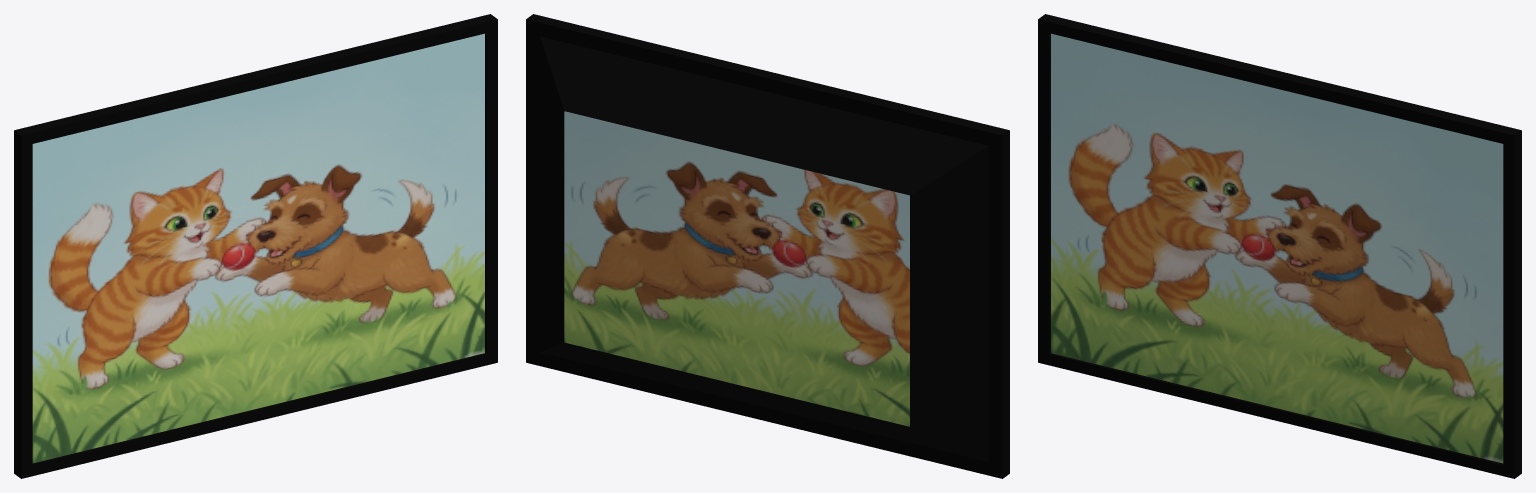
The model's file is team cctv.fbx.
3 renders of one model, left to right at view 1: azimuth 30°, elevation 25°; view 2: azimuth 150°, elevation 25°; view 3: azimuth 330°, elevation 25°, orthographic.
Visible parts, largest first — view 1: tv; view 2: tv; view 3: tv.
Part boxes in pixels (x1,y1,x2,y2): tv: [14, 14, 497, 478]; tv: [526, 14, 1009, 478]; tv: [1038, 14, 1521, 478].
Bounding box in the file's own units: 419 × 289 × 52.43.
Materials: 1 (1 with a texture image).
